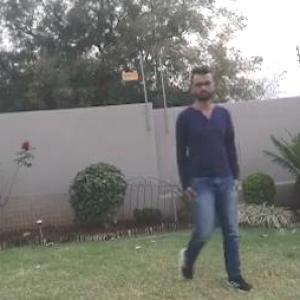follow: (155, 62, 234, 292)
